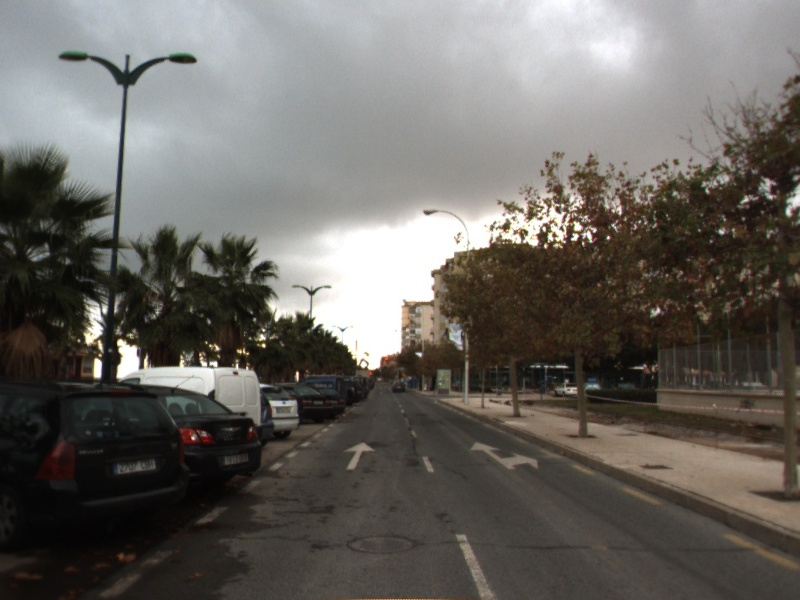STRAIGHT: (342, 440, 378, 471)
STRAIGHT_RIGHT: (469, 440, 540, 471)
